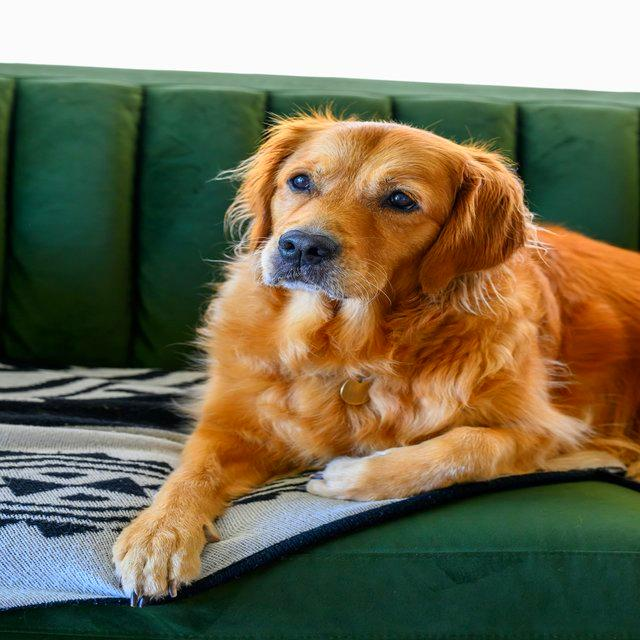retriever: (109, 102, 639, 604)
